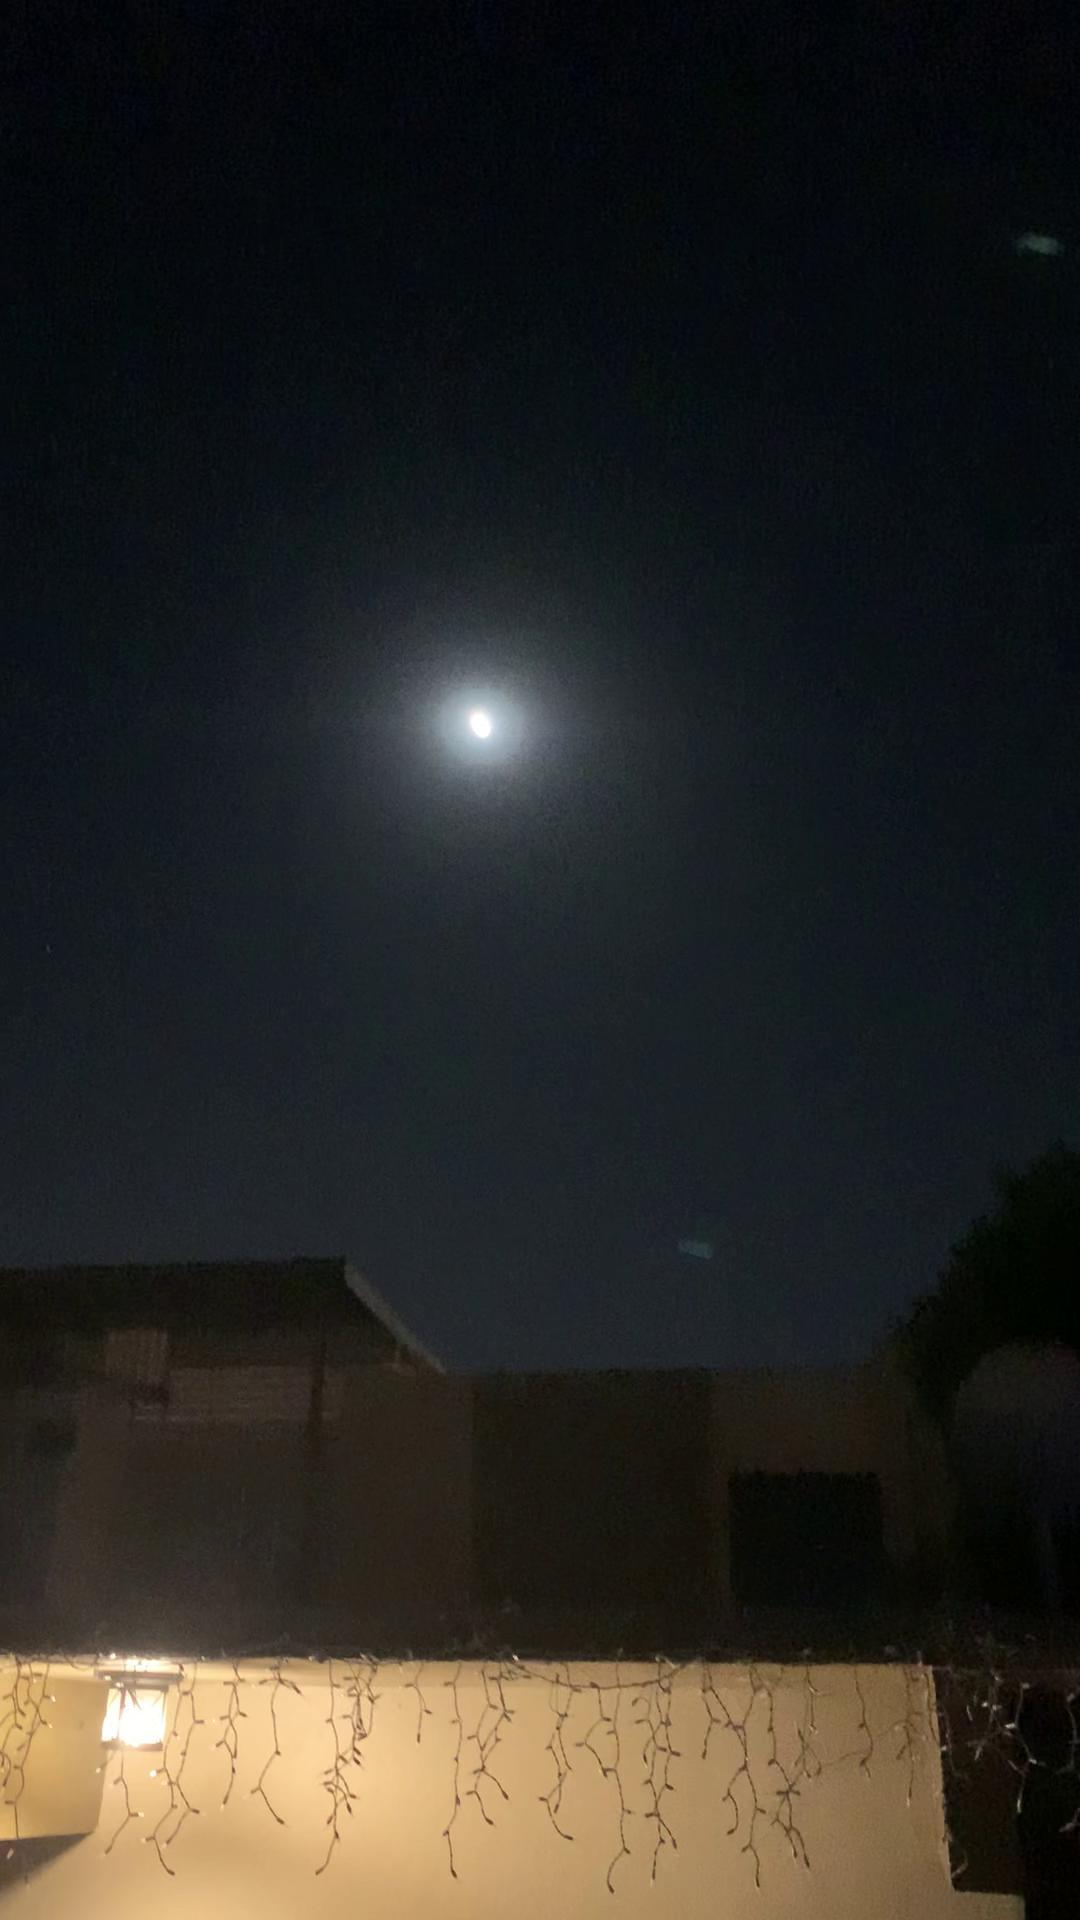moon: (447, 687, 534, 766)
